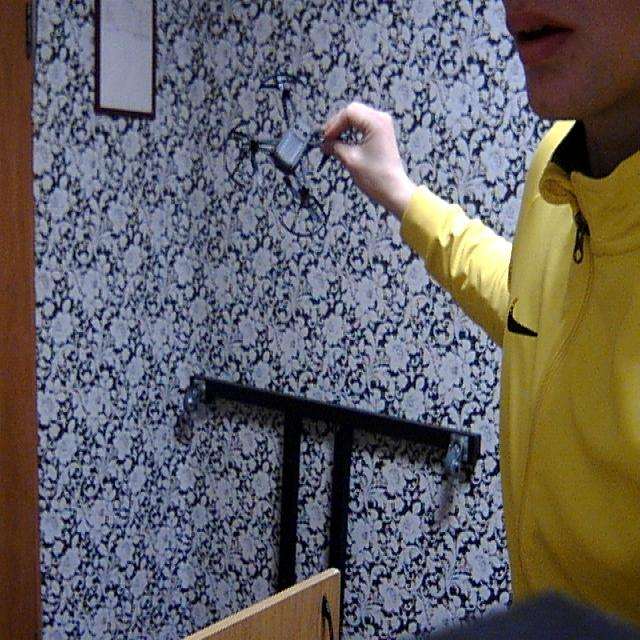drone: (224, 50, 387, 242)
